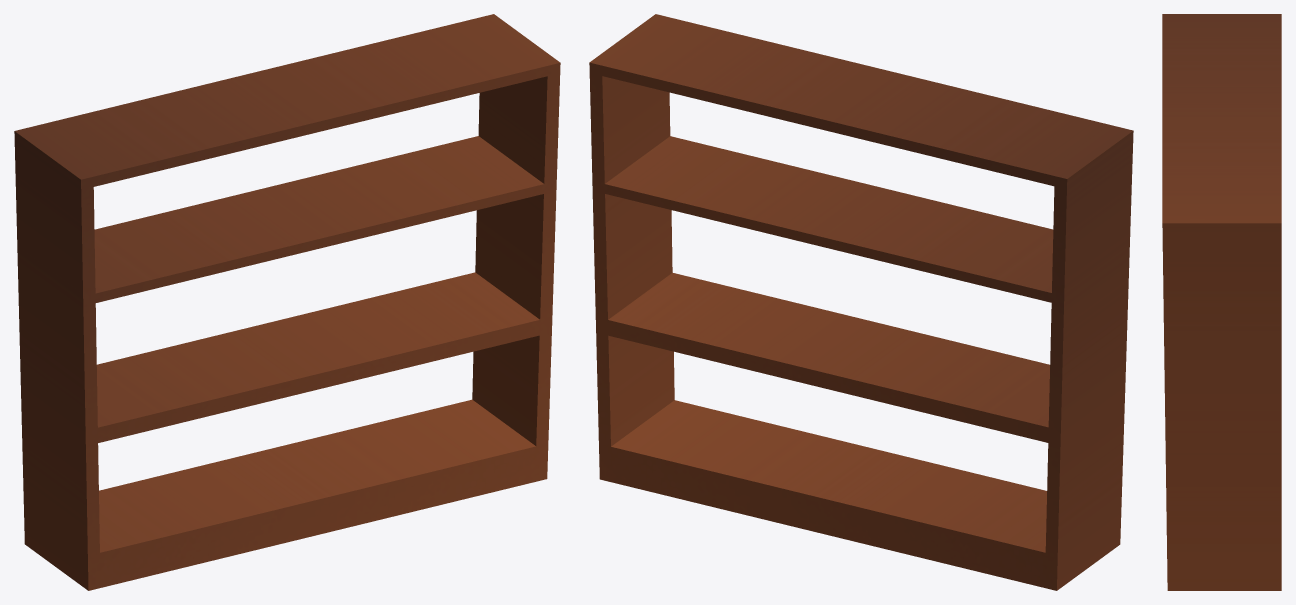
File: furniture_bookshelf0.fbx
The picture shows the model from 3 angles, left to right: view 1: azimuth 30°, elevation 25°; view 2: azimuth 150°, elevation 25°; view 3: azimuth 270°, elevation 25°; orthographic projection. The views are drawn at different scales.
Parts seen in each view (by area): view 1: furniture_bookshelf0; view 2: furniture_bookshelf0; view 3: furniture_bookshelf0.
Part boxes in pixels (x1,y1,x2,y2): furniture_bookshelf0: [14, 14, 560, 590]; furniture_bookshelf0: [589, 14, 1133, 590]; furniture_bookshelf0: [1162, 14, 1281, 590].
Size of the model in its own units: 2.09 by 0.5027 by 1.73.
